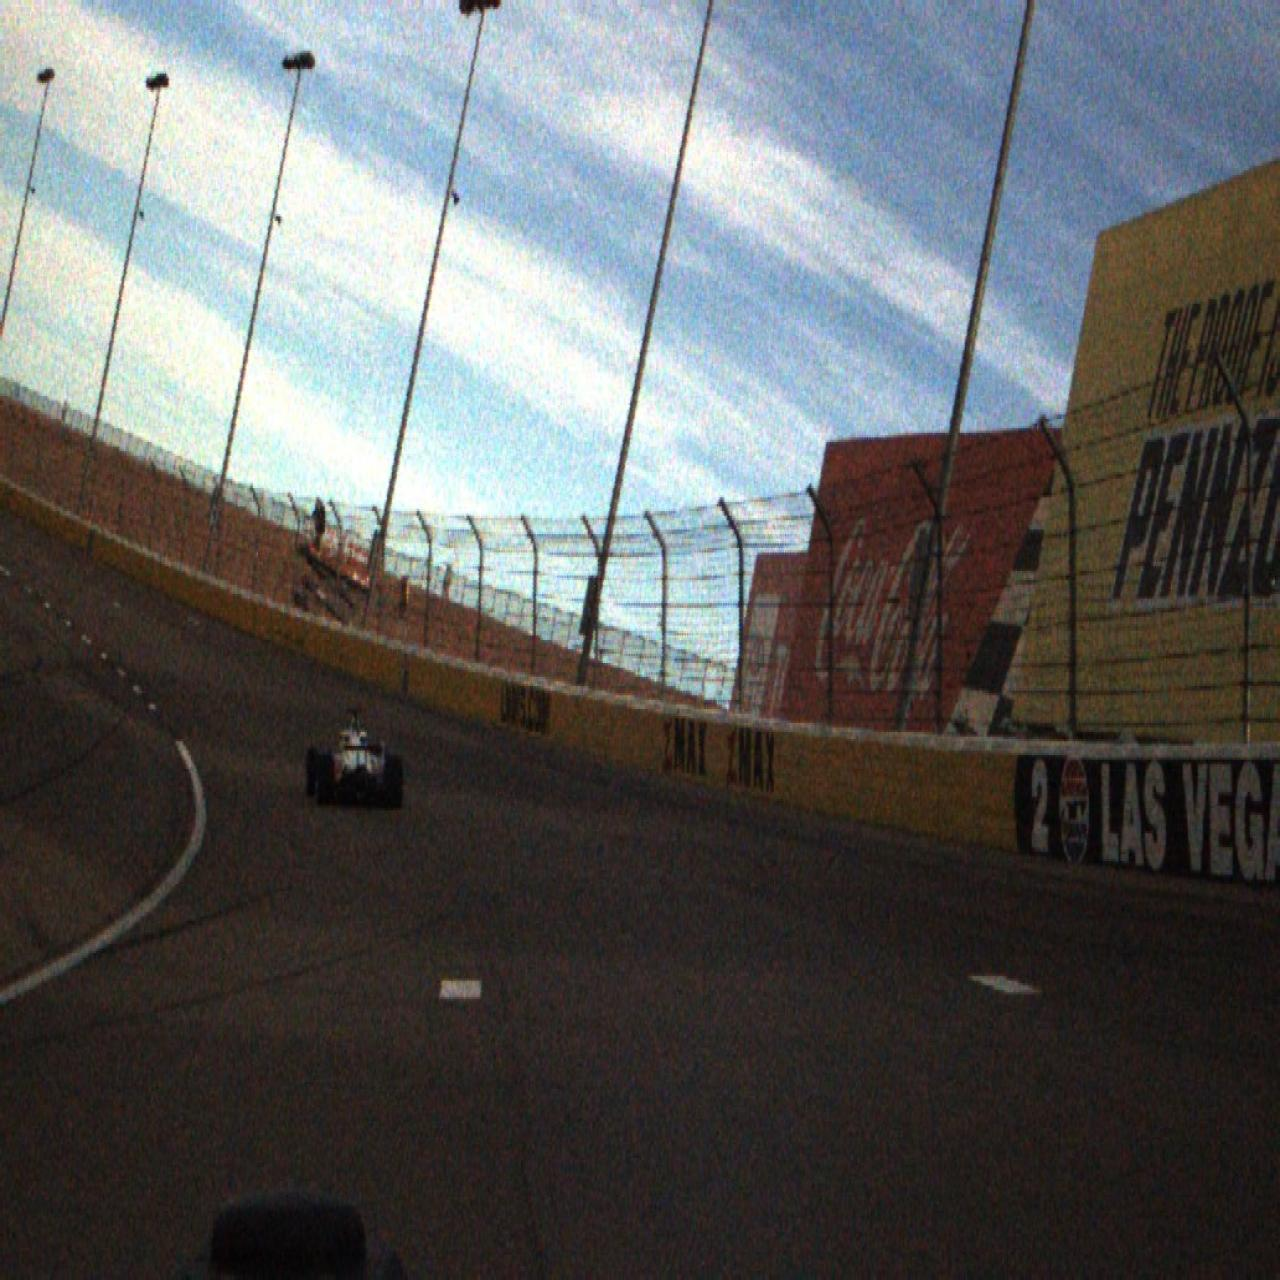AV: (305, 708, 403, 810)
Wheel: (386, 754, 403, 810), (315, 755, 334, 806), (305, 747, 320, 798)
